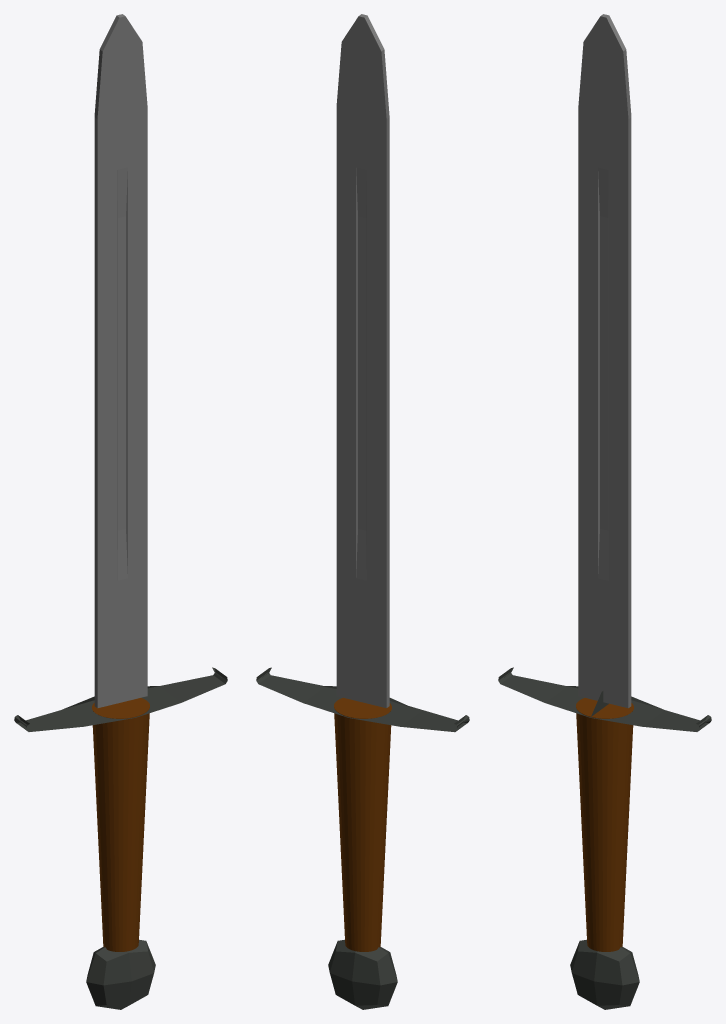
The model's file is espada.fbx.
3 renders of one model, left to right at view 1: azimuth 30°, elevation 25°; view 2: azimuth 150°, elevation 25°; view 3: azimuth 330°, elevation 25°, orthographic.
Visible parts, largest first — view 1: Hoja, Empuñadura, Pomo, Guarnicion; view 2: Hoja, Empuñadura, Pomo, Guarnicion; view 3: Hoja, Empuñadura, Pomo, Guarnicion.
Boxes of the visible parts, <box> form: Hoja: <box>94,14,147,708</box>; Empuñadura: <box>92,698,149,951</box>; Pomo: <box>86,939,155,1009</box>; Guarnicion: <box>14,667,227,731</box>; Hoja: <box>336,14,389,708</box>; Empuñadura: <box>334,697,391,951</box>; Pomo: <box>328,939,397,1009</box>; Guarnicion: <box>256,667,469,732</box>; Hoja: <box>578,14,631,708</box>; Empuñadura: <box>576,698,633,951</box>; Pomo: <box>570,939,639,1009</box>; Guarnicion: <box>498,667,711,731</box>.
Size of the model in its own units: 109 by 517 by 27.25.
